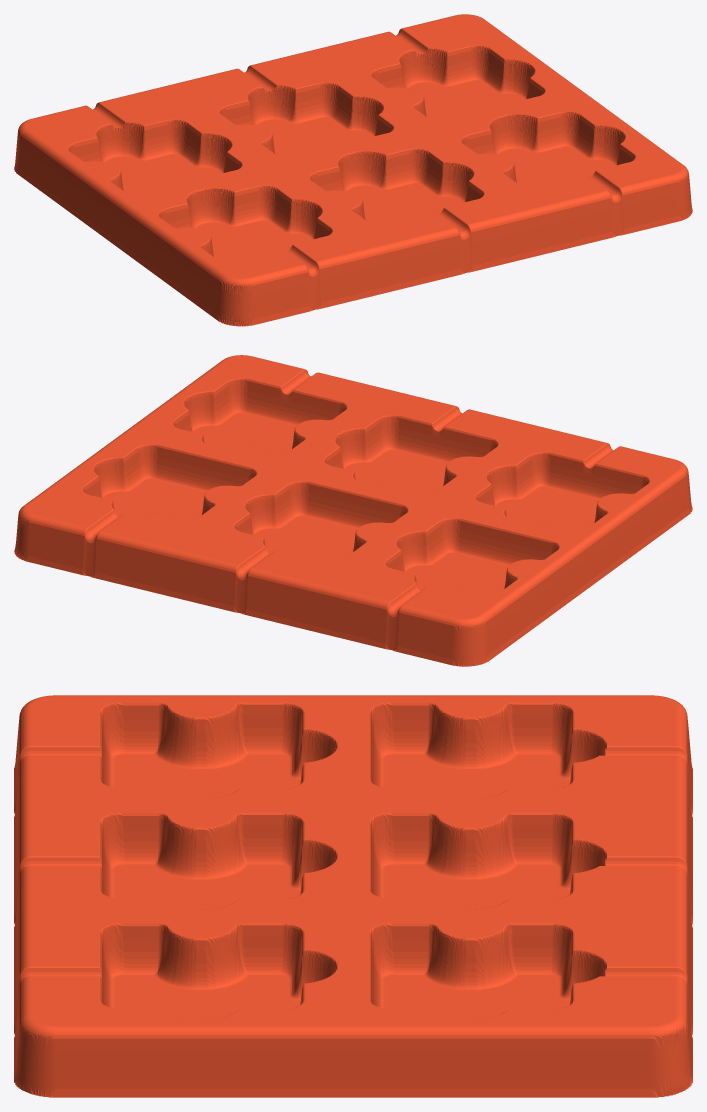
The model's file is mold.glb.
The picture shows the model from 3 angles, top to bottom: view 1: azimuth 30°, elevation 25°; view 2: azimuth 150°, elevation 25°; view 3: azimuth 270°, elevation 25°; orthographic projection. The views are drawn at different scales.
Visible parts, largest first — view 1: geometry_0; view 2: geometry_0; view 3: geometry_0.
Boxes of the visible parts, <box> form: geometry_0: <box>14,14,692,326</box>; geometry_0: <box>14,355,692,666</box>; geometry_0: <box>14,695,692,1097</box>.
Size of the model in its own units: 0.1769 by 0.0155 by 0.1477.
